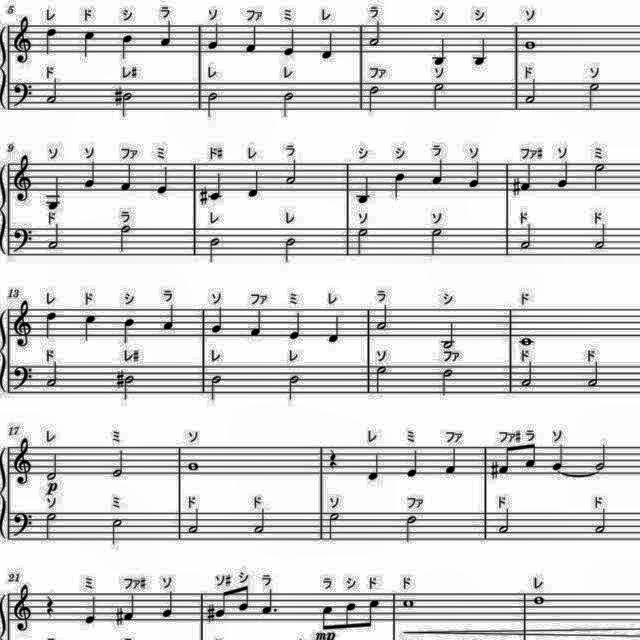Bass-clef: (9, 510, 35, 544), (9, 79, 36, 111), (12, 362, 36, 396), (12, 225, 36, 257)
Diez: (112, 84, 124, 110), (511, 172, 522, 200), (490, 456, 502, 480), (206, 600, 216, 624), (115, 368, 125, 389), (199, 186, 209, 206), (116, 606, 124, 626)
Eighth-note: (365, 598, 383, 630), (498, 442, 514, 478), (344, 599, 360, 633), (214, 588, 230, 620), (236, 585, 252, 615), (522, 443, 538, 471), (320, 604, 336, 630)
Full-note: (183, 458, 203, 474), (515, 335, 537, 349), (530, 592, 548, 606), (522, 37, 538, 51), (402, 596, 418, 610)
Half-note: (366, 81, 386, 119), (202, 88, 222, 124), (428, 80, 448, 114), (354, 226, 374, 260), (520, 75, 540, 108), (584, 80, 602, 116), (46, 221, 66, 253), (520, 360, 540, 392), (110, 448, 130, 480), (402, 514, 422, 544), (590, 162, 610, 192), (280, 90, 298, 122), (208, 372, 226, 404), (374, 362, 390, 398), (45, 450, 63, 482), (206, 234, 222, 268), (592, 221, 608, 255), (281, 236, 299, 266), (496, 507, 514, 537), (368, 18, 384, 50), (122, 90, 138, 122), (430, 226, 446, 258), (519, 222, 535, 254), (286, 373, 302, 405), (326, 510, 342, 542), (440, 320, 458, 348), (44, 510, 58, 546), (118, 225, 134, 255), (286, 158, 302, 188), (374, 303, 390, 333), (440, 369, 456, 399), (584, 360, 600, 390), (110, 516, 126, 546), (186, 505, 202, 535), (252, 506, 268, 536), (594, 442, 610, 471), (45, 76, 59, 108), (46, 360, 62, 388), (592, 508, 608, 536), (122, 374, 134, 406)
Quarter-note: (470, 31, 492, 69), (46, 173, 66, 213), (430, 31, 448, 69), (354, 175, 374, 209), (119, 312, 137, 348), (204, 19, 223, 53), (248, 308, 268, 340), (243, 22, 260, 58), (554, 159, 572, 193), (81, 594, 99, 628), (282, 24, 298, 62), (318, 28, 337, 60), (519, 160, 535, 198), (81, 29, 99, 62), (155, 162, 171, 198), (208, 170, 224, 206), (444, 444, 460, 478), (157, 21, 175, 51), (367, 453, 385, 483), (160, 590, 178, 620), (42, 26, 58, 58), (120, 28, 136, 60), (120, 160, 136, 192), (466, 160, 482, 192), (44, 310, 60, 342), (84, 313, 100, 345), (160, 302, 176, 334), (328, 312, 344, 344), (549, 440, 565, 472), (406, 448, 422, 479), (392, 171, 408, 201), (430, 158, 446, 188), (286, 309, 302, 339), (246, 169, 260, 203), (83, 157, 97, 190), (124, 592, 136, 626), (211, 306, 225, 334)
Quarter-rest: (44, 592, 58, 620), (324, 446, 340, 470)
Treble-clef: (12, 154, 38, 206), (11, 298, 37, 350), (12, 582, 36, 634), (12, 437, 36, 488), (12, 15, 34, 66)
